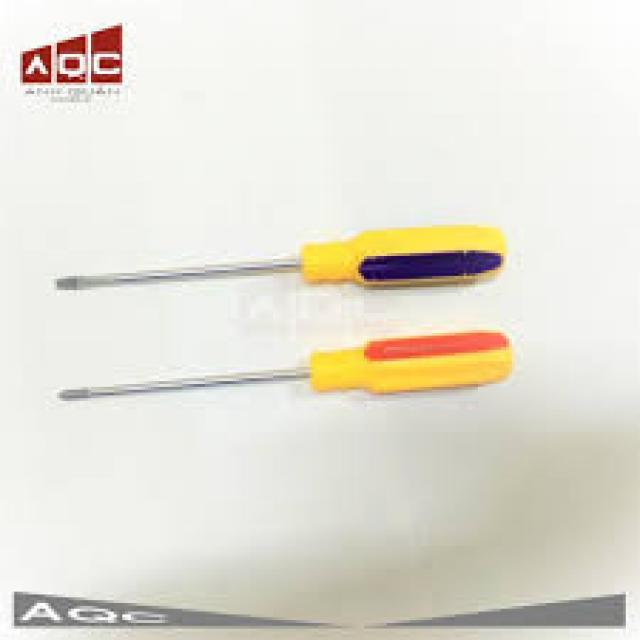screwdriver: (57, 327, 515, 404), (52, 224, 508, 298)
